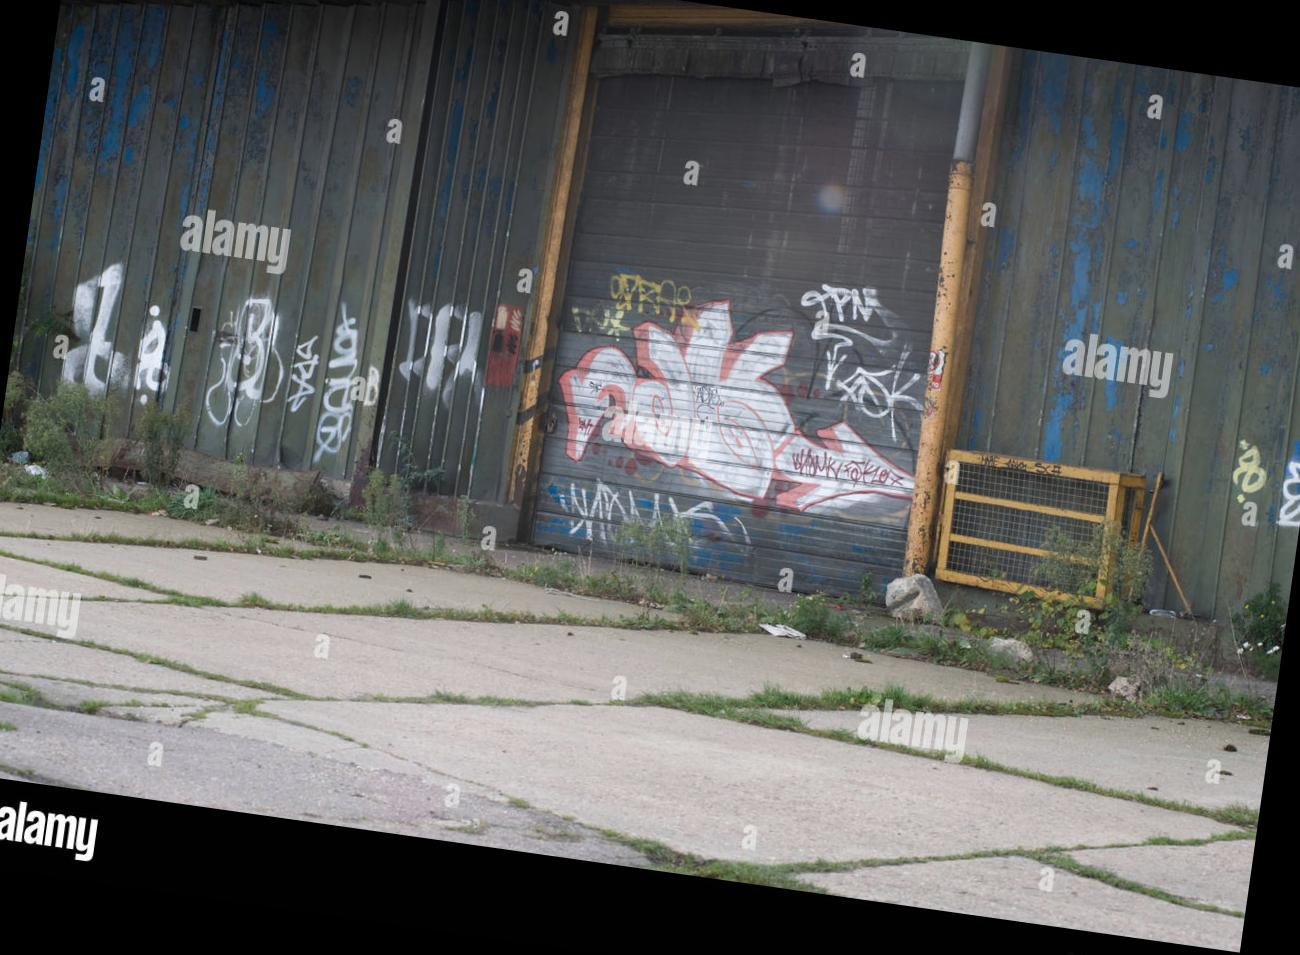graffiti: (559, 300, 913, 522), (538, 480, 750, 571), (799, 283, 924, 436), (198, 296, 289, 458), (313, 301, 378, 463), (55, 262, 127, 393), (569, 269, 695, 336), (399, 303, 480, 390), (130, 305, 166, 402), (288, 335, 319, 411), (1231, 438, 1267, 493), (1277, 460, 1300, 527)
trash: (760, 622, 805, 641), (8, 449, 31, 464)
